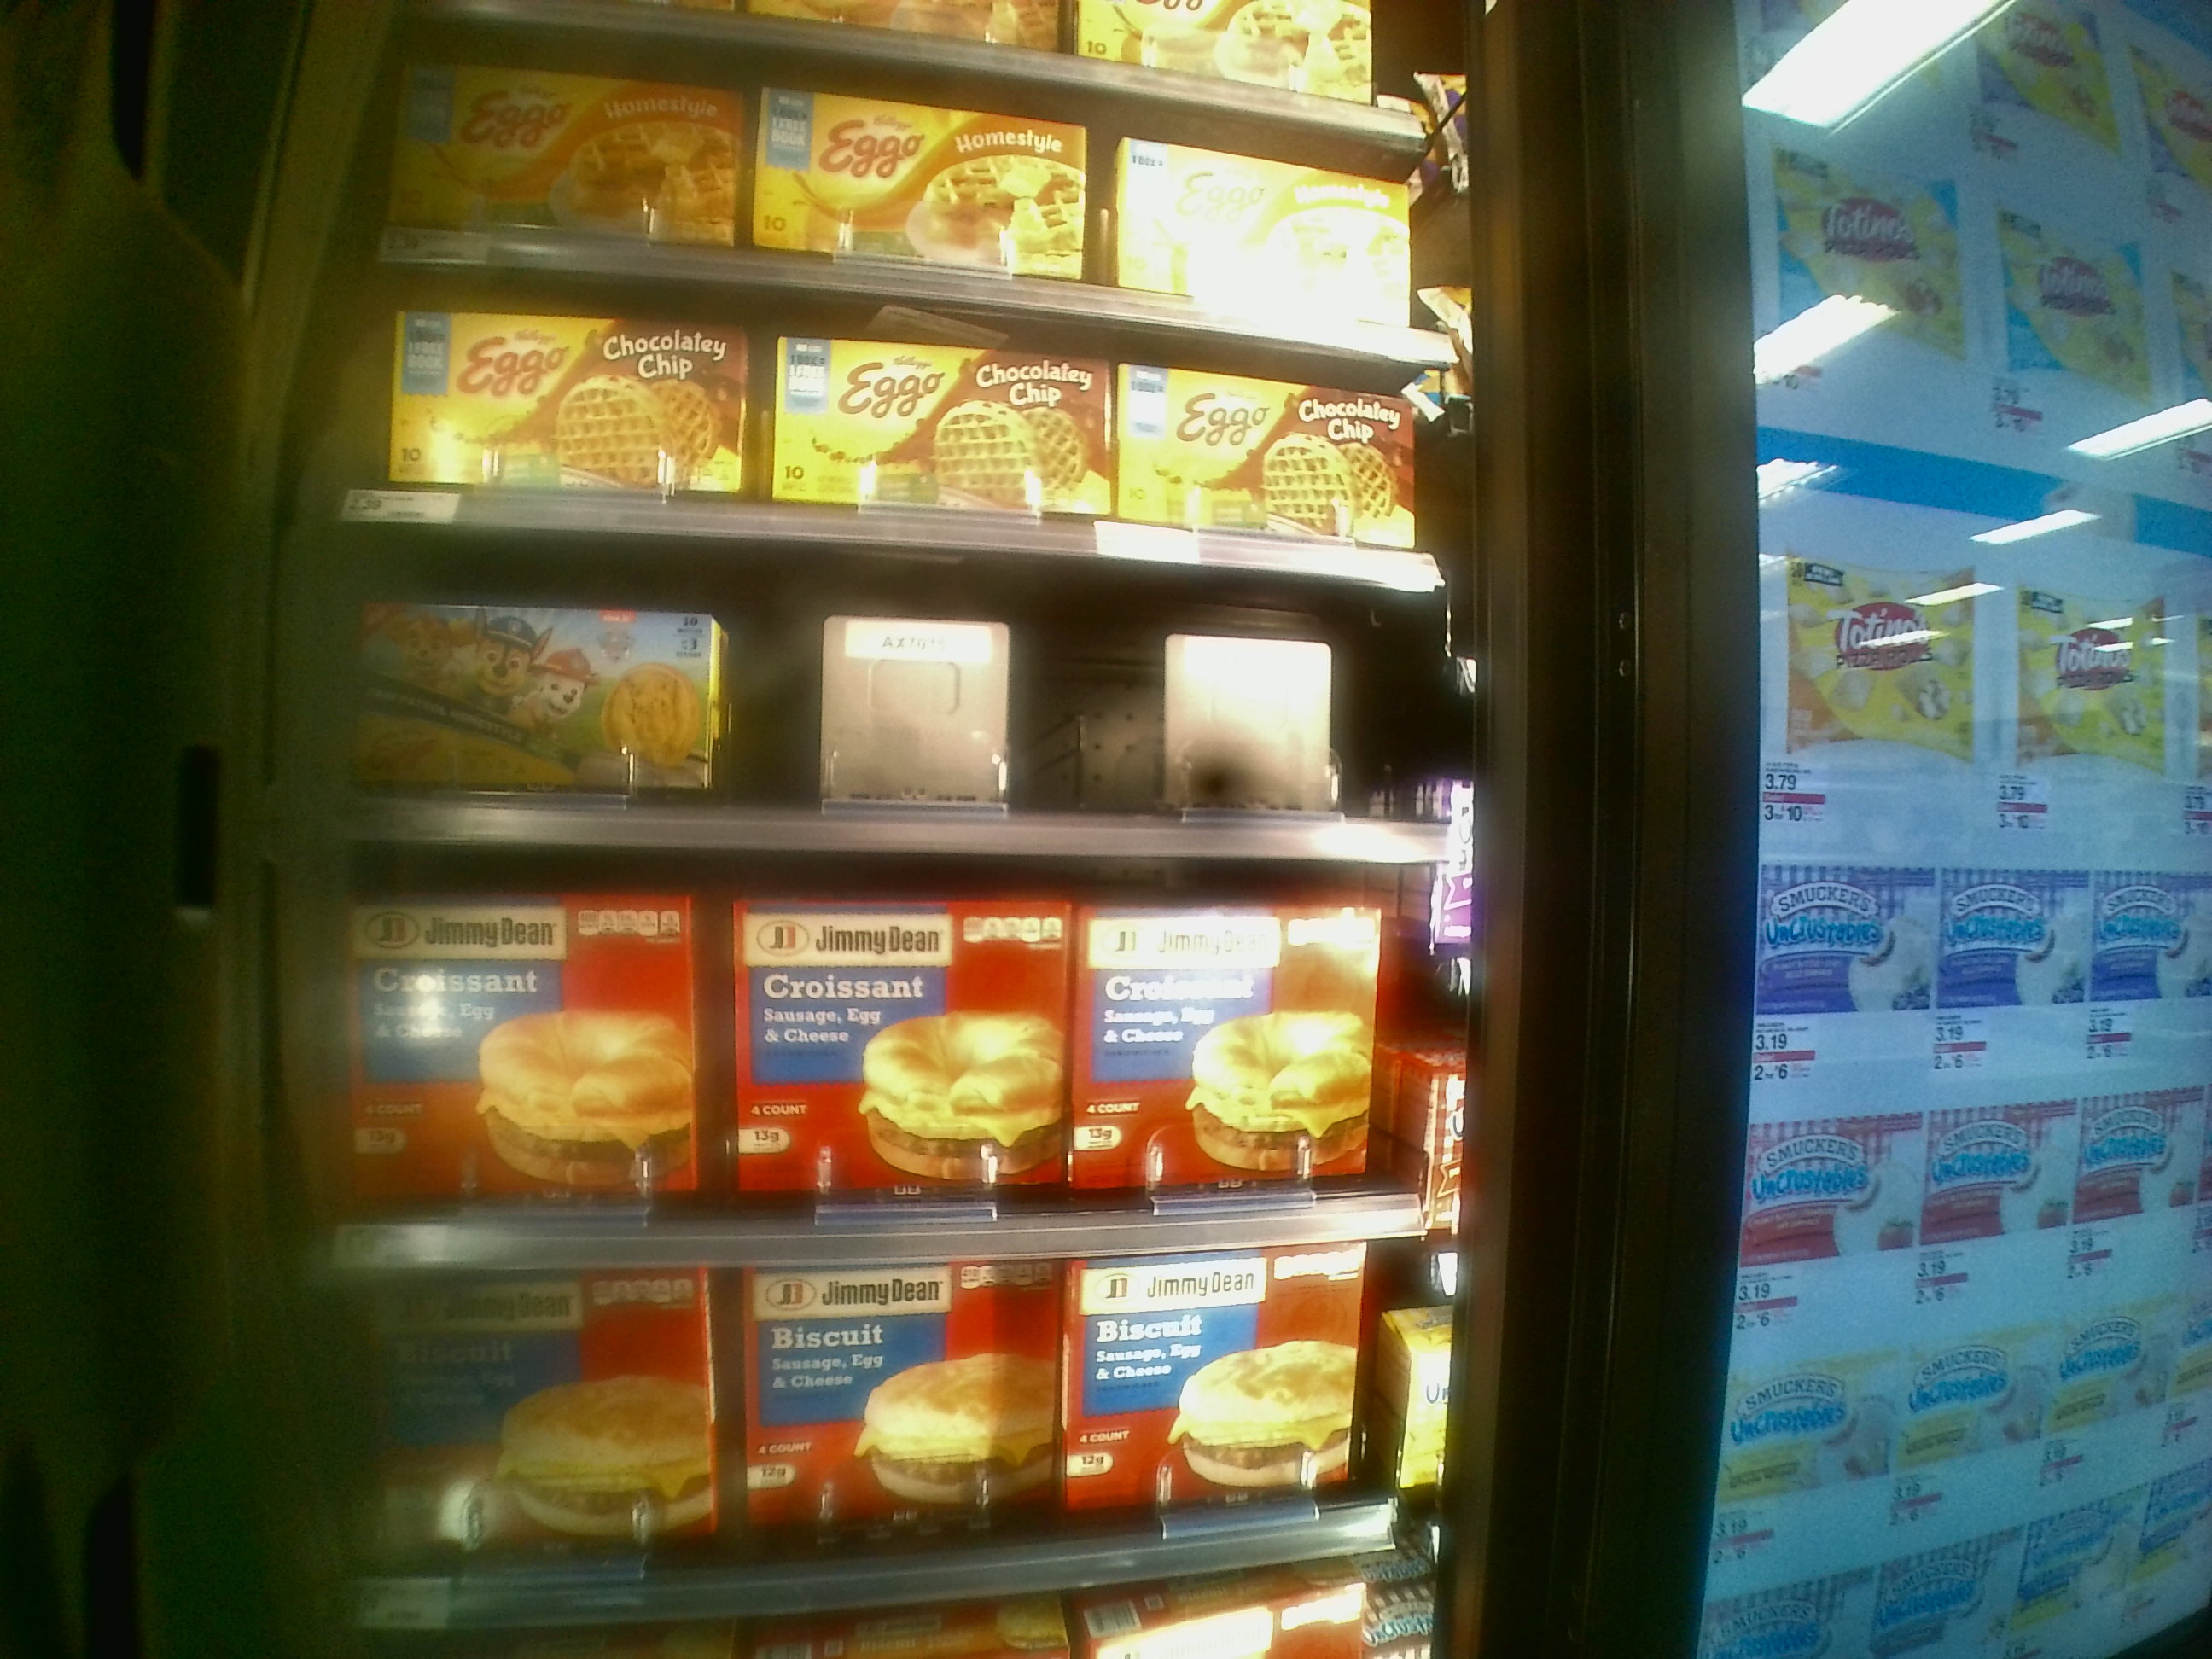shelf: (331, 843, 1465, 1279), (354, 251, 1479, 598), (331, 512, 1463, 852)
